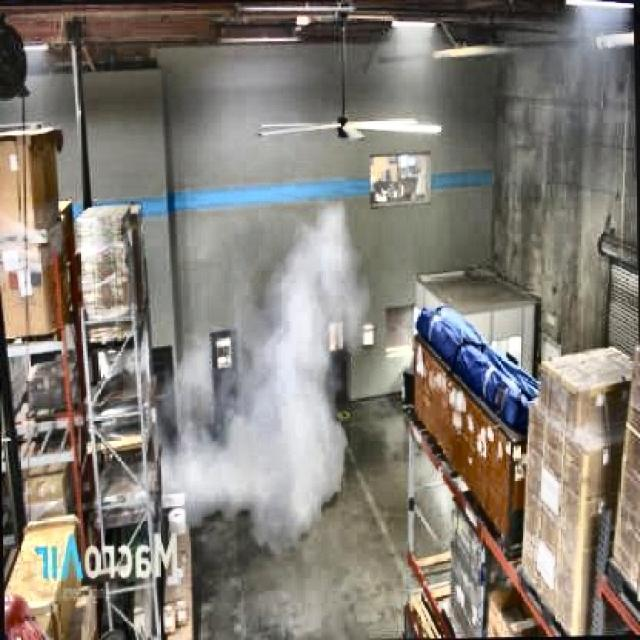smoke: (190, 215, 348, 510)
